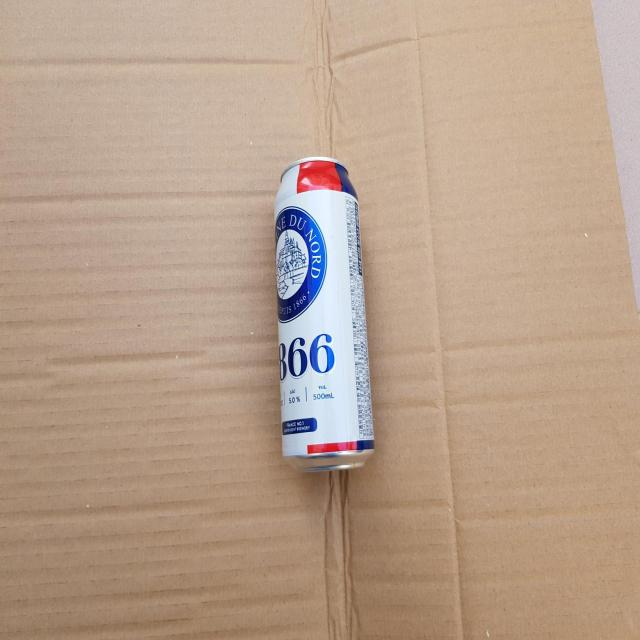can: (275, 156, 375, 472)
